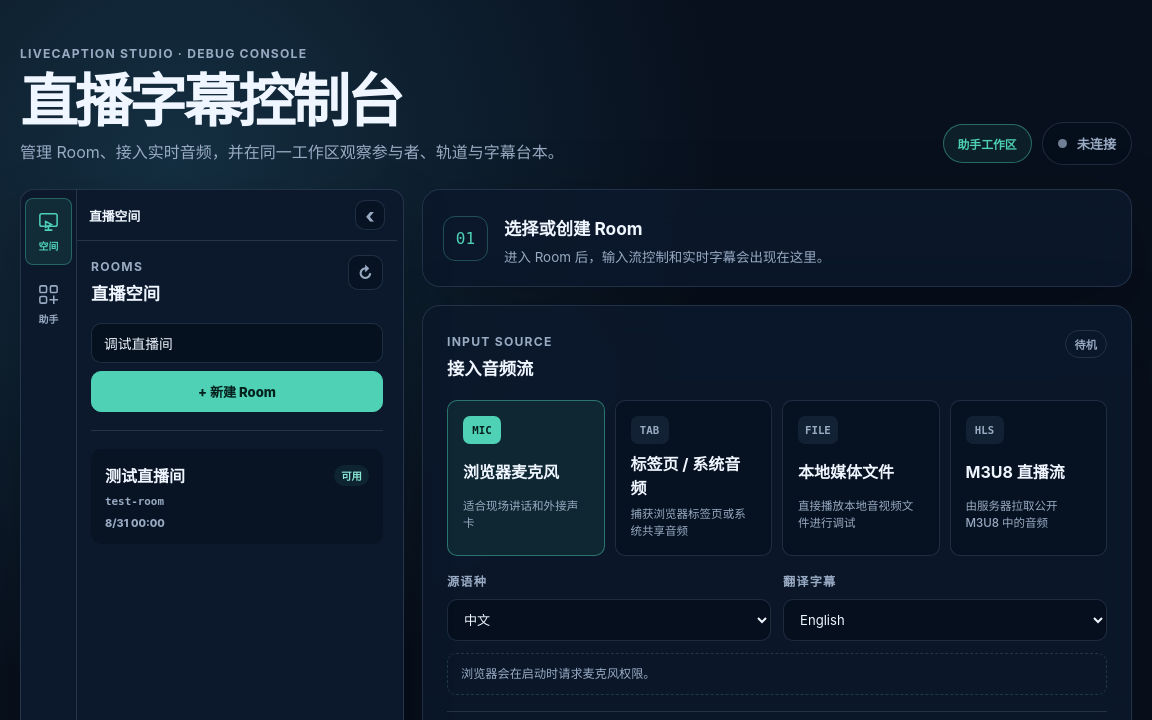
Test: RoomStudio persistent assistant sidebar › shows an honest pending state and separates history/management navigation
What coordinates should you click on to do the following:
click the button "助手工作区"
I would click on:
 (987, 144)
Its box is [942,124,1032,163].
(page scrolled)
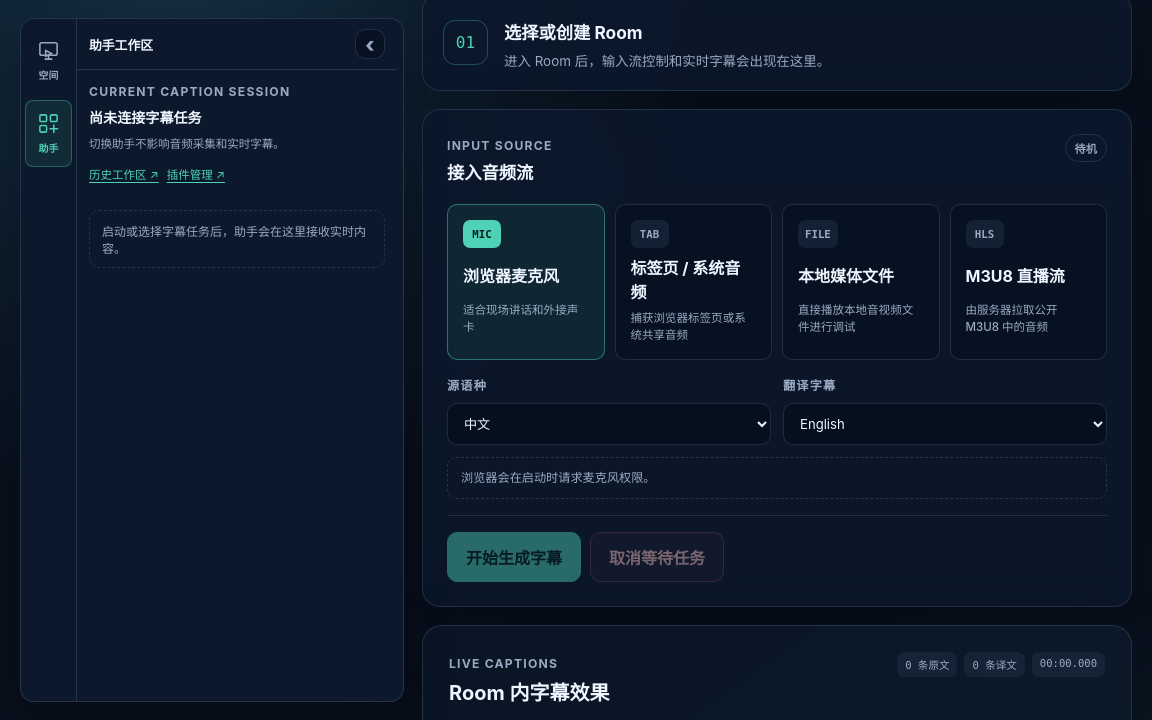
Expected: the element with id "studio-panel-assistants" shows "启动或选择字幕任务", [102,223,366,255]
